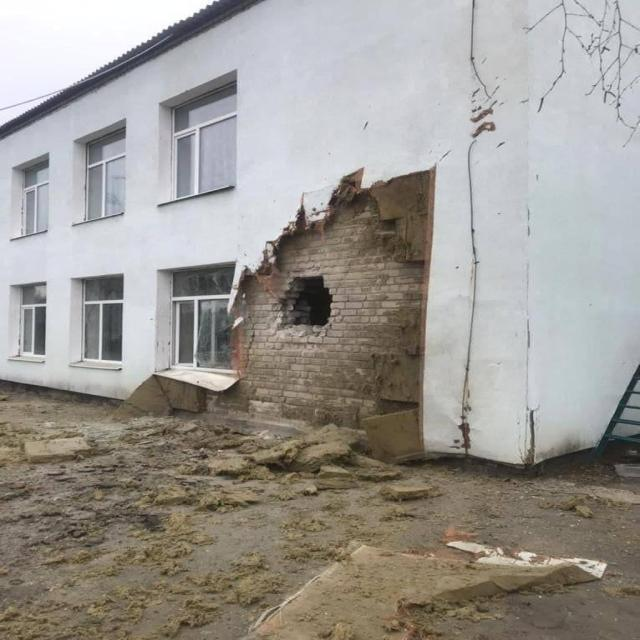broken_window: (167, 77, 237, 202), (167, 262, 237, 372), (73, 273, 124, 369), (83, 127, 126, 221), (8, 281, 47, 361), (278, 274, 332, 331), (14, 155, 49, 238)
building: (0, 0, 639, 472)
roof: (0, 0, 263, 139)
